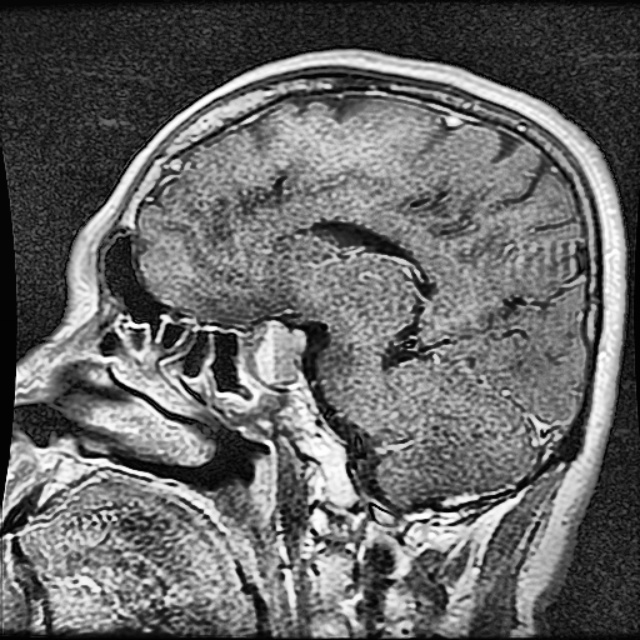Pituitary: (255, 324, 302, 383)
